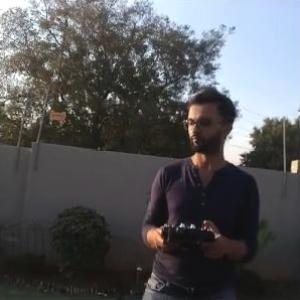follow: (129, 88, 256, 299)
